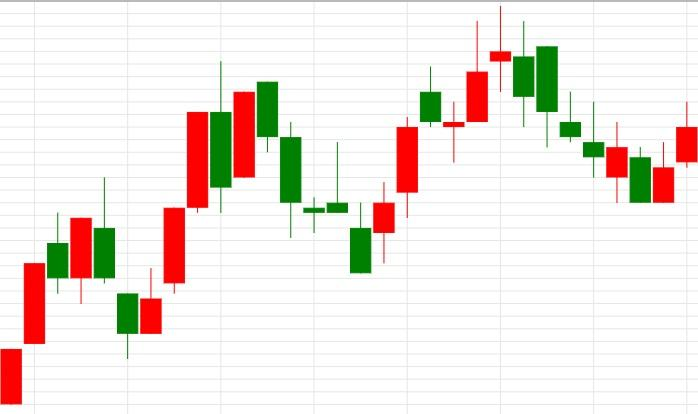evening_star_fall: (373, 6, 535, 264)
three_white_soldiers_rise: (94, 112, 208, 359)
